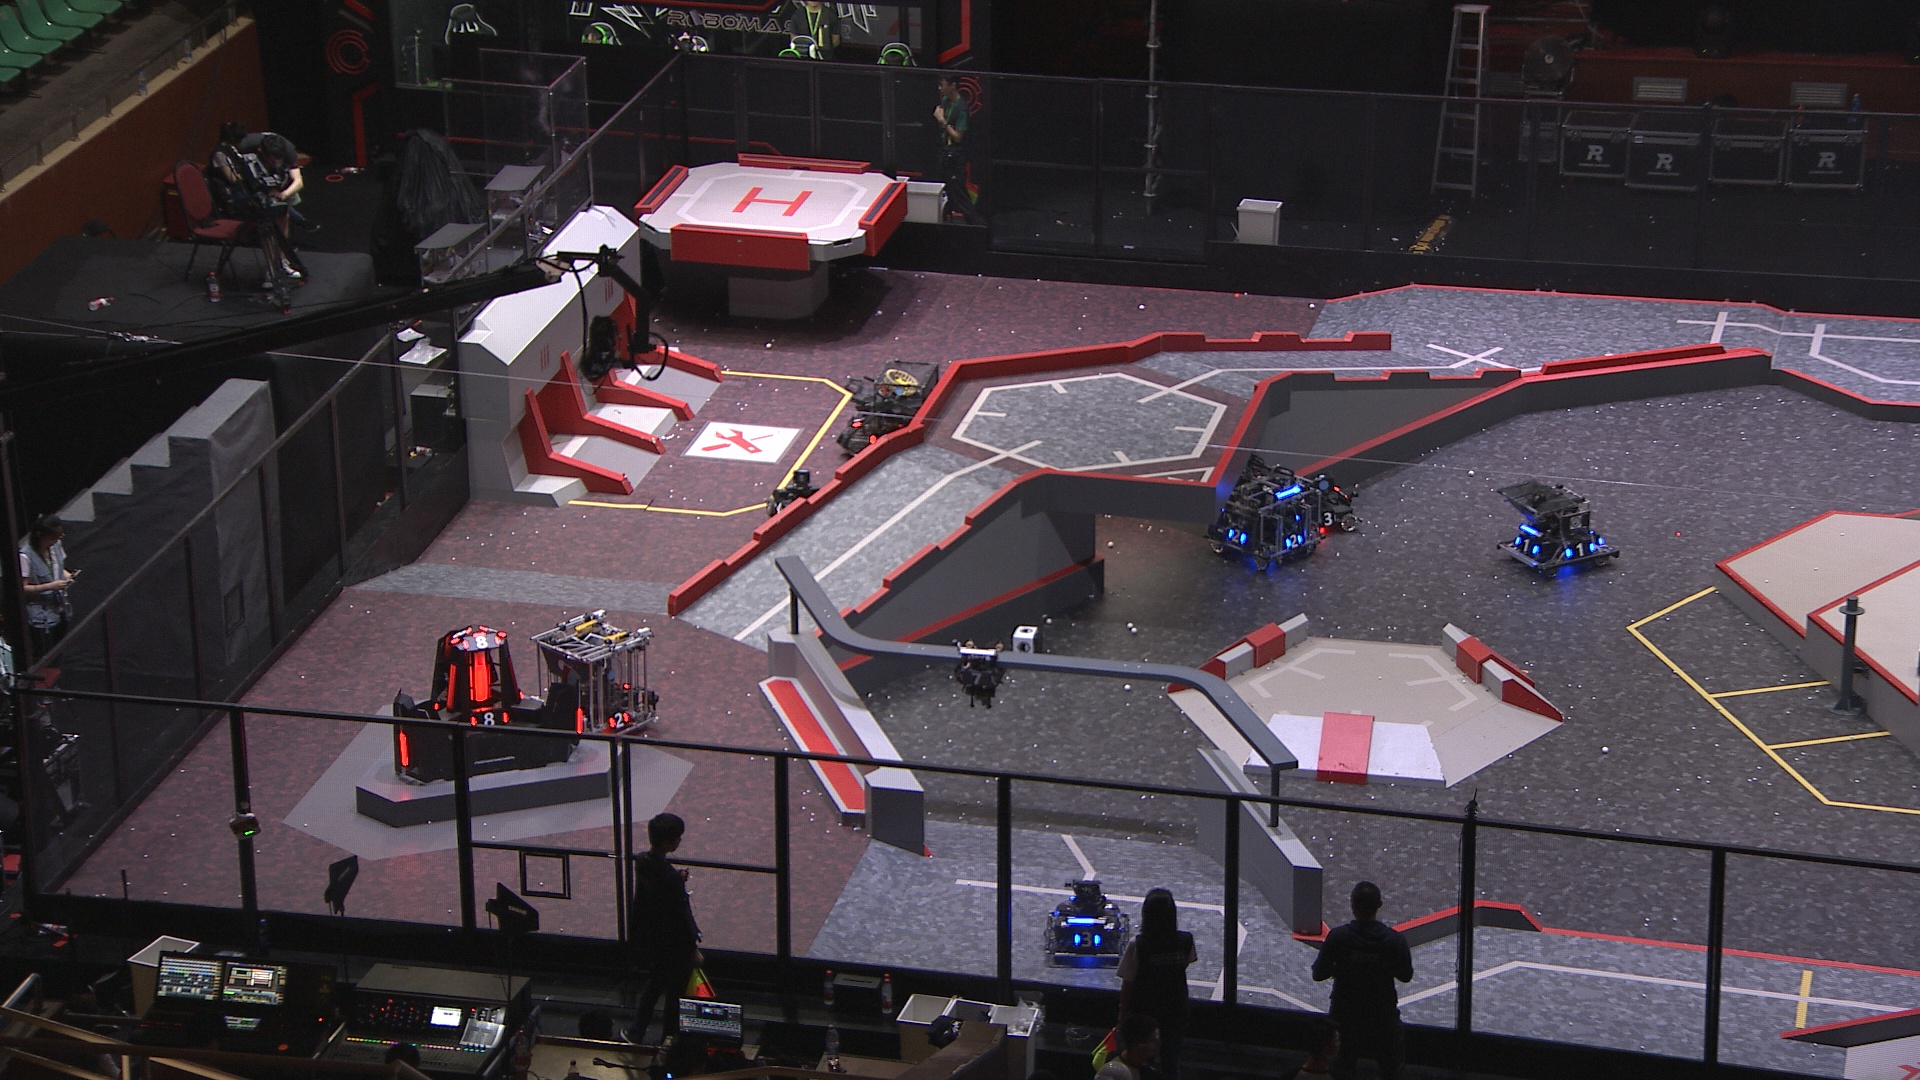armor: (471, 661, 491, 705), (468, 709, 509, 728), (959, 669, 994, 688), (444, 661, 458, 712), (1565, 541, 1596, 560), (1514, 535, 1538, 559), (462, 633, 500, 647), (1069, 932, 1100, 949), (448, 626, 469, 645), (1226, 527, 1249, 545), (609, 711, 632, 728), (400, 728, 409, 769), (574, 708, 585, 736), (1316, 512, 1338, 526), (851, 409, 866, 429), (1284, 533, 1302, 549)
base: (392, 624, 585, 785)
car: (526, 605, 662, 749), (1193, 451, 1327, 574), (835, 353, 963, 479), (1495, 479, 1622, 576), (1043, 877, 1134, 969), (761, 465, 844, 541), (1287, 465, 1358, 533)
watcher: (953, 638, 1007, 711)
